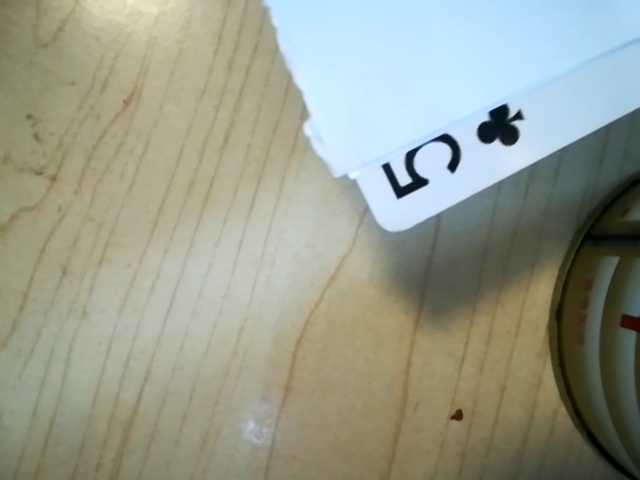mh 5: (372, 97, 536, 220)
